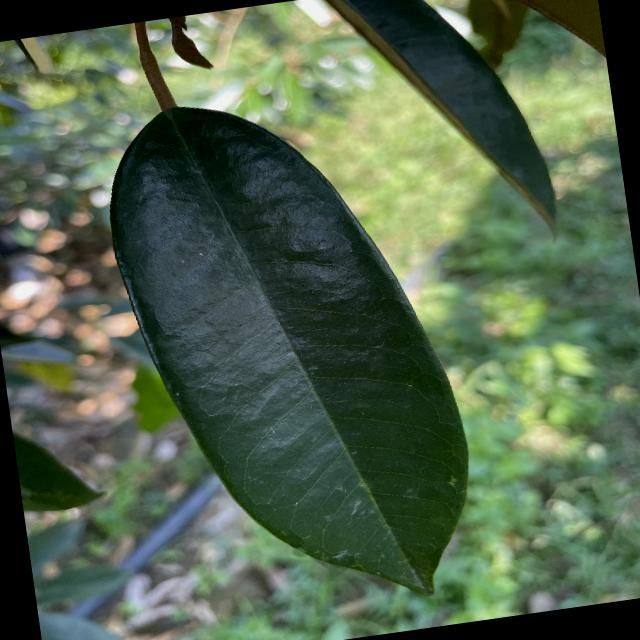No Disease: (84, 64, 499, 639)
